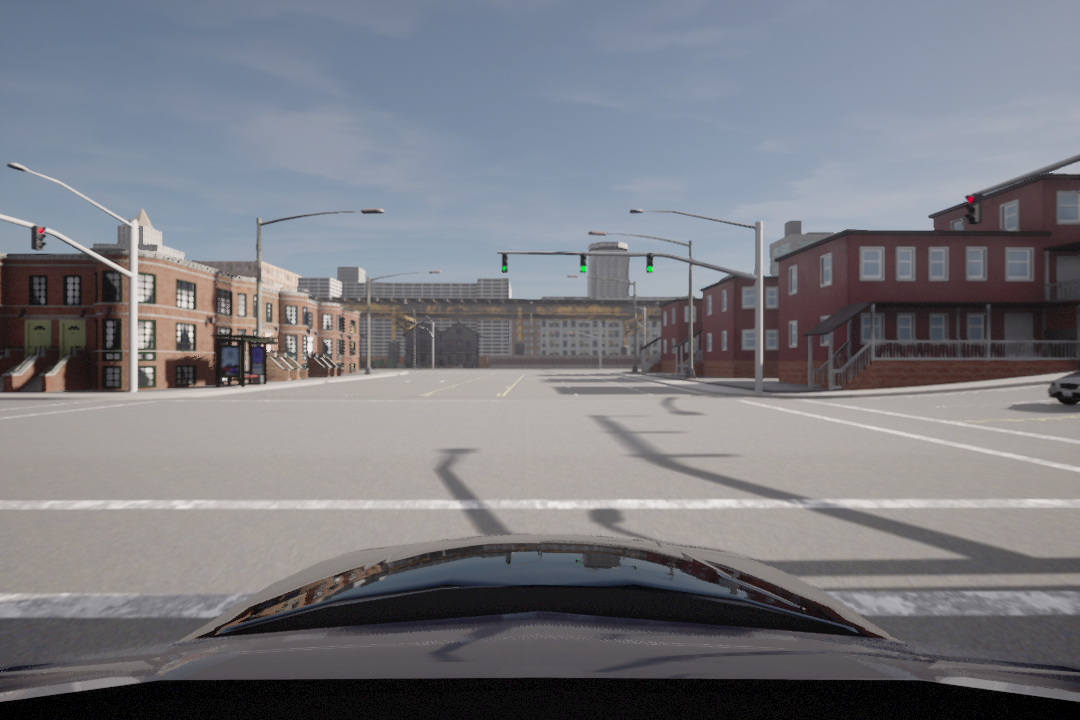TrafficLight: (966, 194, 981, 222), (32, 225, 46, 251), (579, 250, 588, 275), (500, 252, 510, 274), (645, 254, 654, 275)
